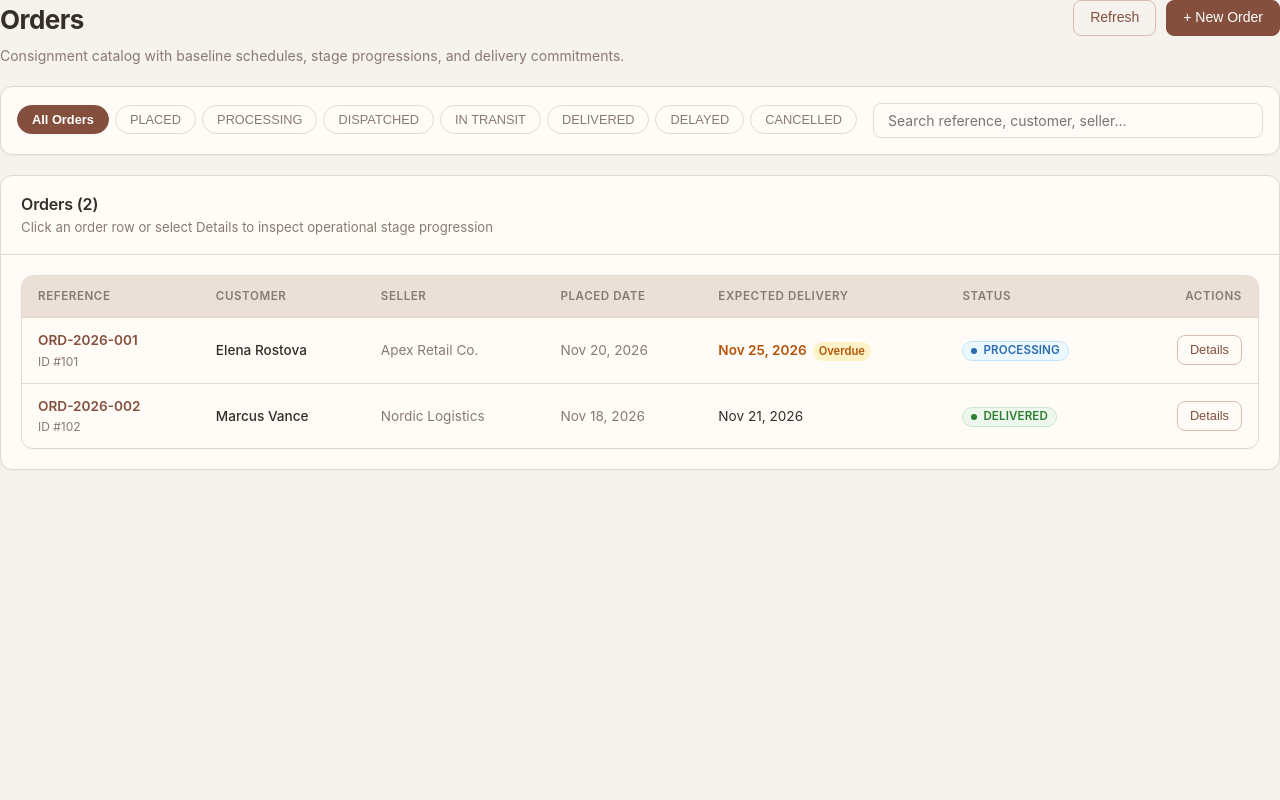
it: OrdersPage Component › opens create order modal and populates seller/customer options
The width and height of the screenshot is (1280, 800).
Check: the text "ORD-2026-001" is shown, box x1=38 y1=332 x2=138 y2=348
Click the button "+ New Order". click: [1223, 18]
box: x1=1166 y1=0 x2=1279 y2=36
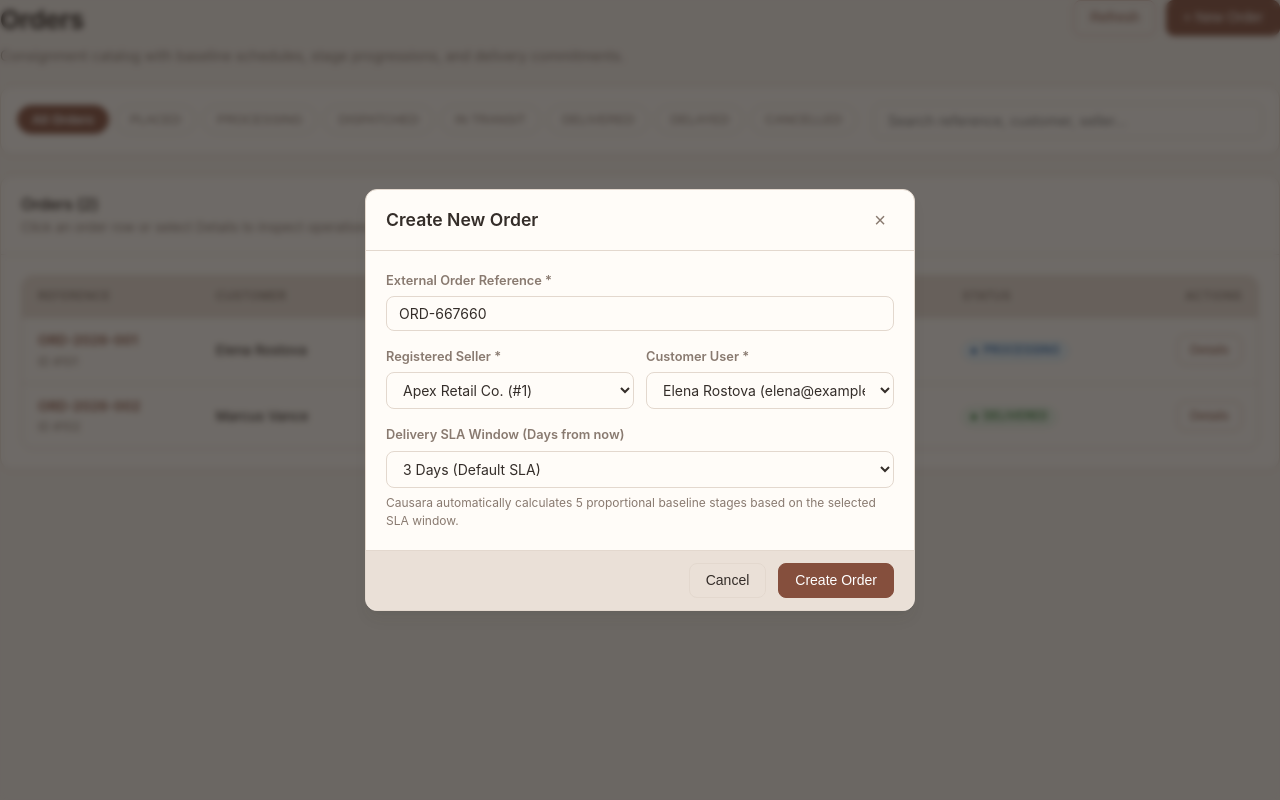
Check: the heading "Create New Order" is shown, box x1=386 y1=207 x2=538 y2=233
Check: the field labelled "External Order Reference *" is shown, box x1=386 y1=296 x2=894 y2=331
Check: the dropdown labelled "Registered Seller *" is shown, box x1=386 y1=372 x2=634 y2=409
